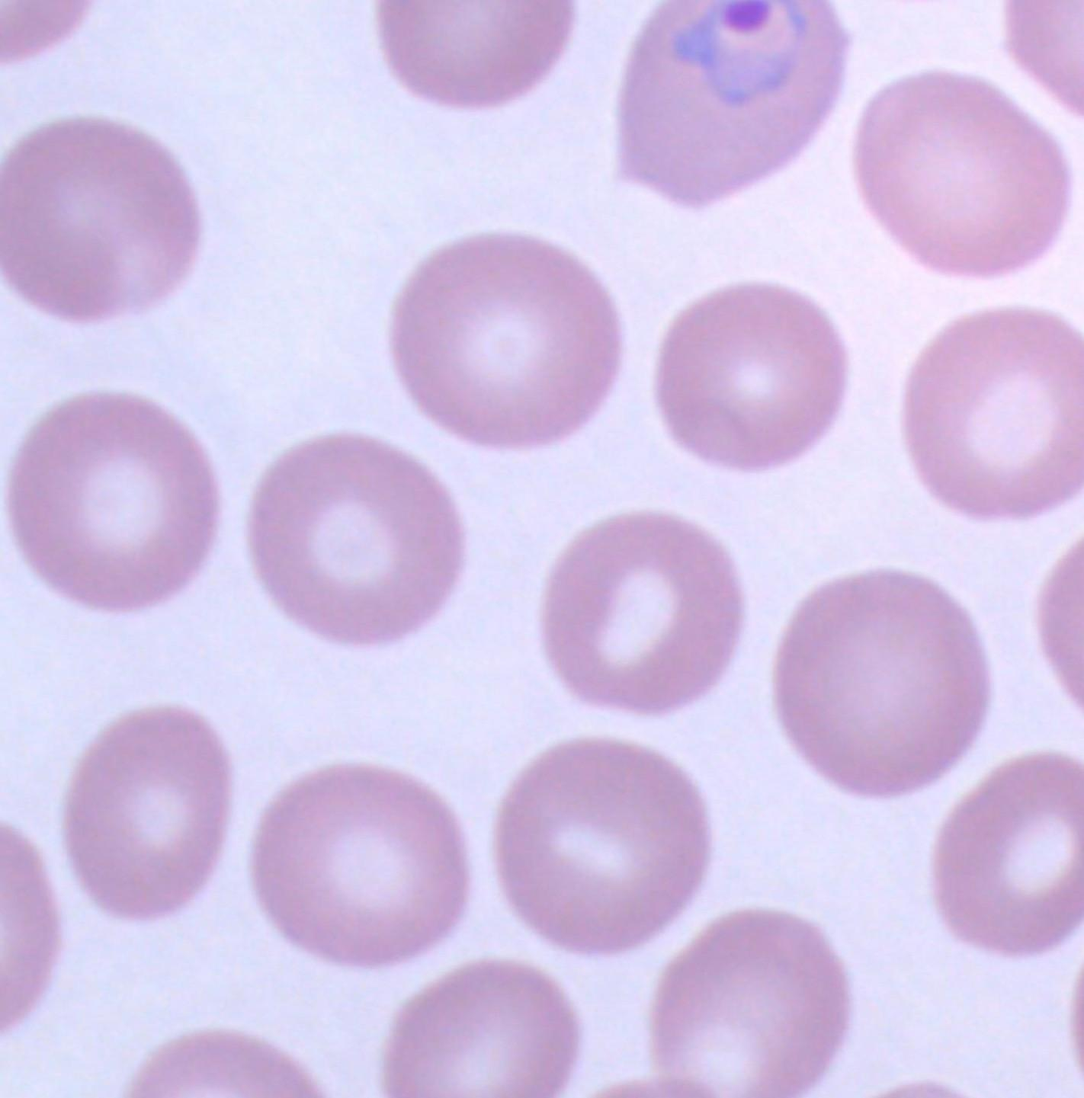Infected: (606, 0, 850, 207)
Uninfected: (774, 570, 992, 800), (393, 235, 623, 451), (495, 743, 710, 958), (252, 433, 464, 647), (11, 395, 217, 614), (858, 69, 1071, 277), (253, 762, 466, 967), (541, 507, 743, 713), (0, 118, 199, 323), (907, 305, 1084, 524), (652, 907, 845, 1098), (657, 282, 845, 471), (63, 707, 228, 918), (936, 751, 1084, 961), (383, 959, 579, 1098), (374, 0, 579, 111)
